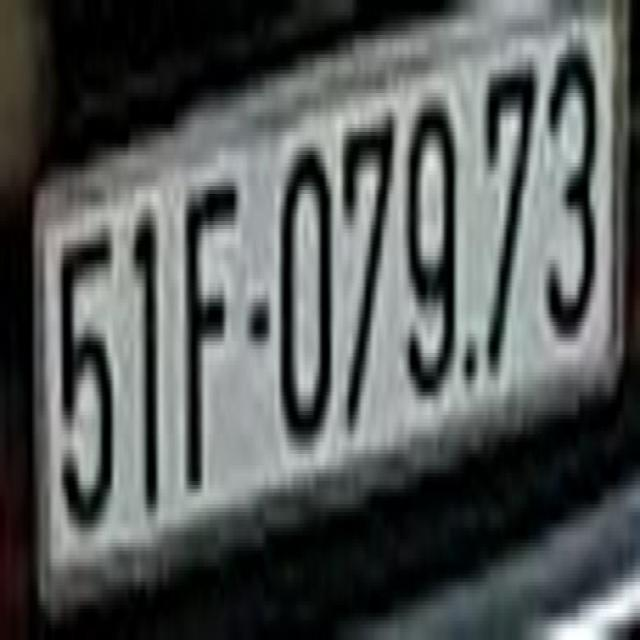0: (273, 132, 335, 438)
1: (64, 237, 117, 539), (132, 198, 162, 500)
3: (548, 35, 598, 345)
7: (482, 59, 544, 372), (342, 120, 393, 438)
9: (401, 62, 461, 419)
F: (181, 167, 239, 496)
